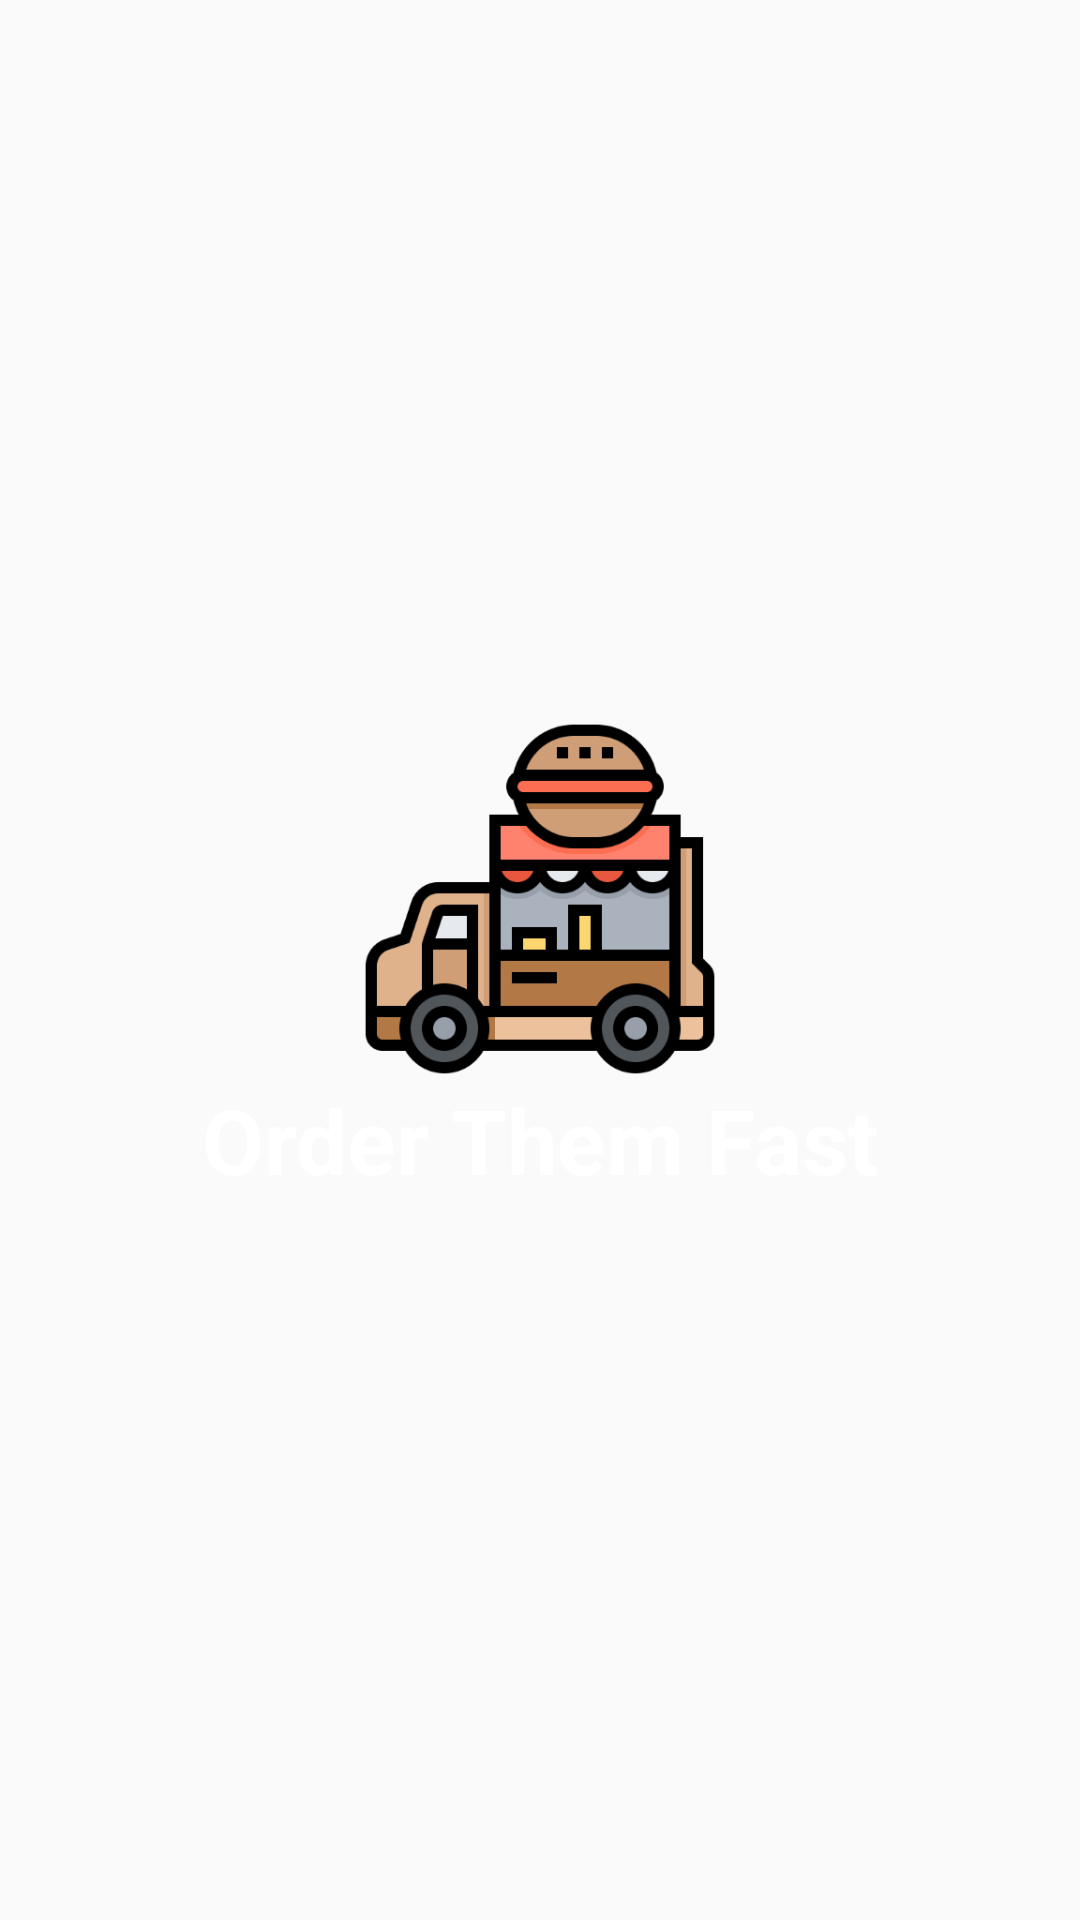

Icon bounding boxes for this 1080px×1920px phone screenshot, format (left=x1, top=y1, right=x2, bottom=y2):
food truck: (left=365, top=724, right=715, bottom=1074)
